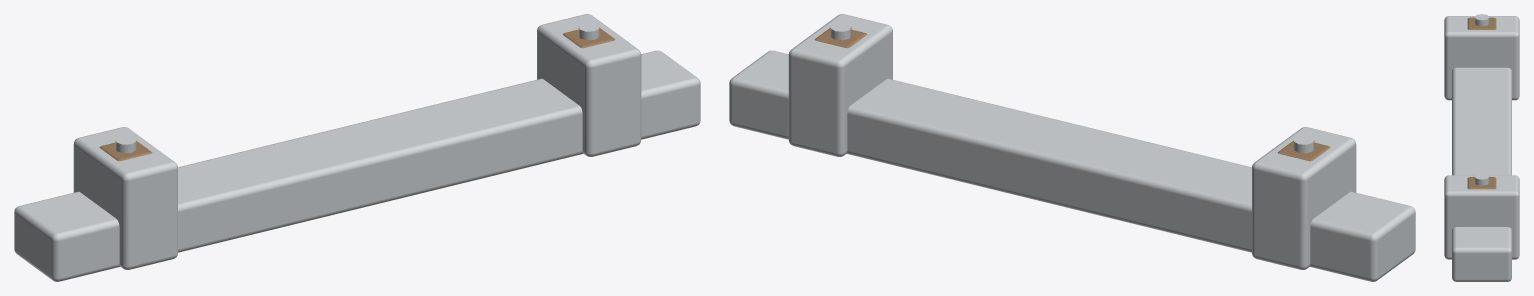
File: marquetry-and-veneer-inlay-workshop-vacuum-bag-closure-d3af4452__39122.glb
3 views of the same model, side by side, from view 1: azimuth 30°, elevation 25°; view 2: azimuth 150°, elevation 25°; view 3: azimuth 270°, elevation 25° (orthographic). The views are drawn at different scales.
Visible parts, largest first — view 1: vacuum-bag-closure-rail; view 2: vacuum-bag-closure-rail; view 3: vacuum-bag-closure-rail.
Part boxes in pixels (x1=…): vacuum-bag-closure-rail: x1=14, y1=14, x2=700, y2=281; vacuum-bag-closure-rail: x1=729, y1=14, x2=1415, y2=281; vacuum-bag-closure-rail: x1=1444, y1=14, x2=1519, y2=281.
Size of the model in its own units: 0.7 by 0.11 by 0.1.
